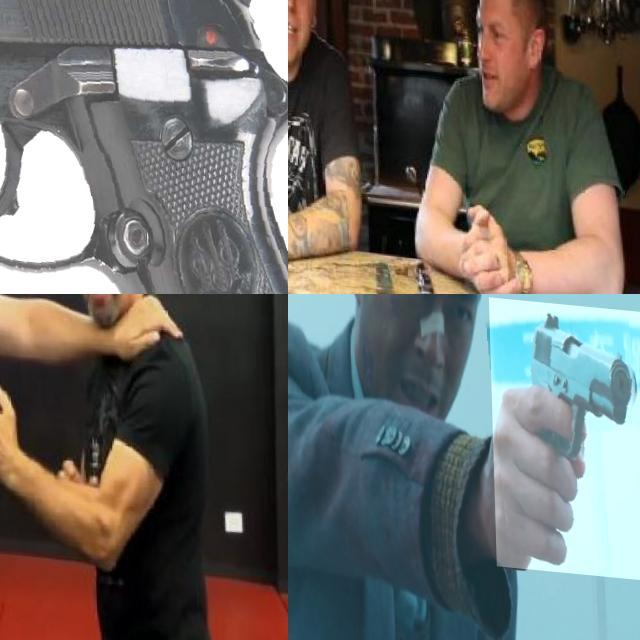-: (288, 60, 337, 202), (0, 561, 35, 640)
gun-knife-thesis - v11 Yolov5 augmented: (0, 0, 288, 294), (487, 294, 640, 569)
